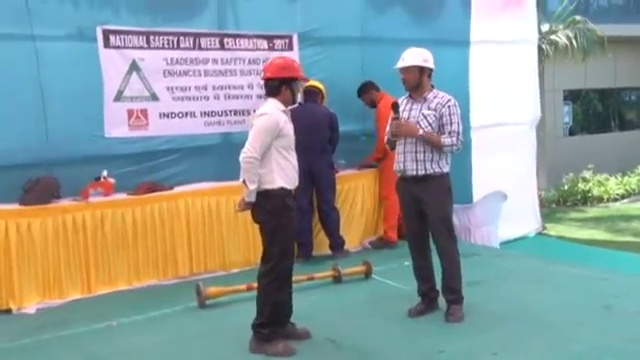helmet: (260, 56, 307, 81), (393, 46, 439, 71), (302, 79, 328, 100)
helmet_off: (355, 78, 385, 110)
helmet_on: (259, 55, 306, 111), (393, 47, 439, 99), (302, 77, 328, 107)
person: (236, 56, 312, 356), (385, 46, 466, 324), (291, 78, 352, 260), (355, 78, 407, 250)
